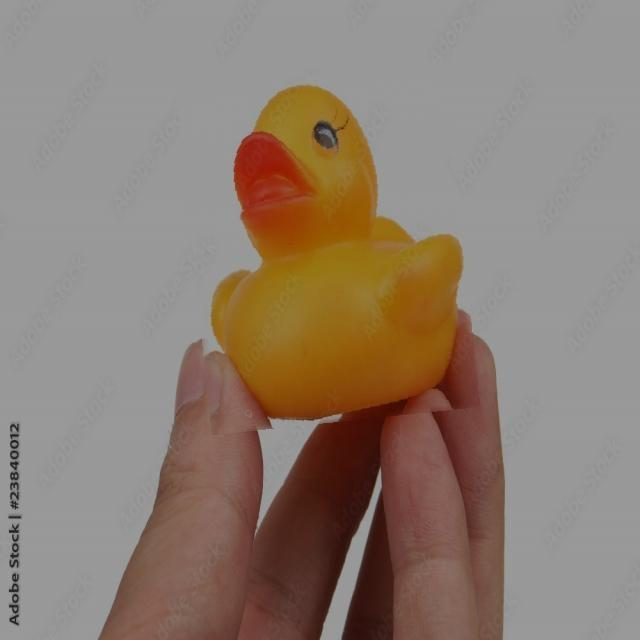rubber-duck: (211, 85, 460, 416)
